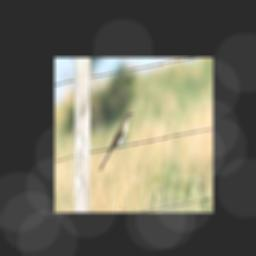Cuckoo: (99, 111, 135, 171)
